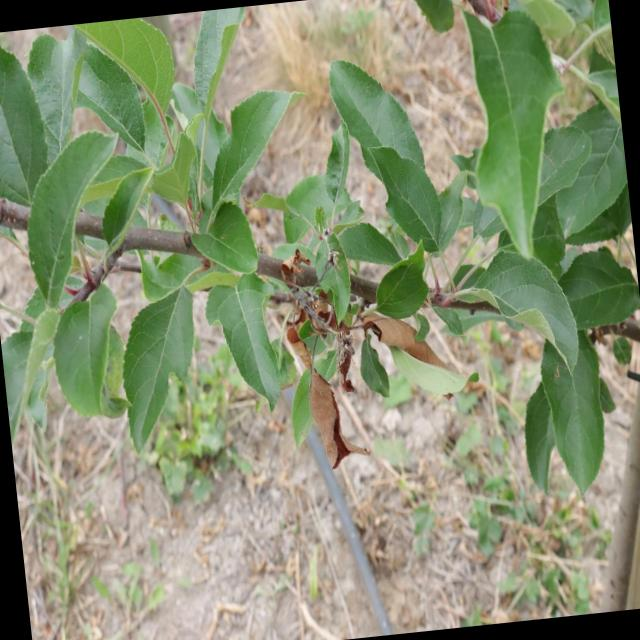-FireBlight-: (256, 239, 442, 459)
